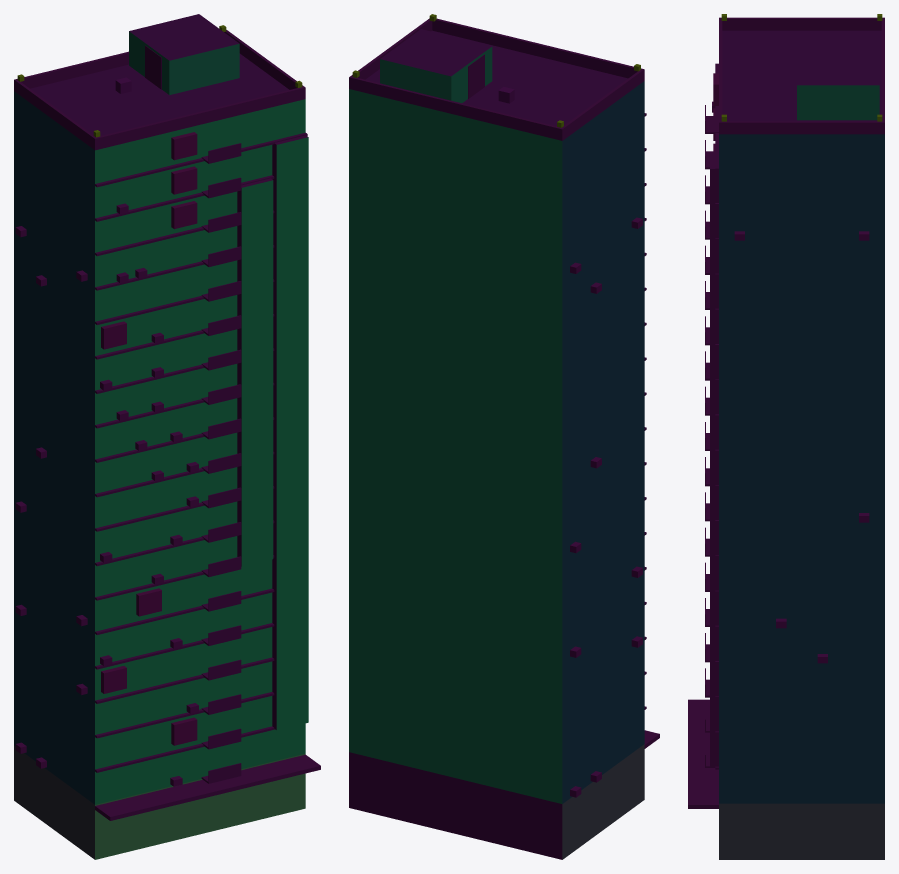
File: slab_i.glb
3 views of the same model, side by side, from view 1: azimuth 30°, elevation 25°; view 2: azimuth 150°, elevation 25°; view 3: azimuth 270°, elevation 25° (orthographic). The views are drawn at different scales.
Visible parts, largest first — view 1: slab_i; view 2: slab_i; view 3: slab_i.
Part boxes in pixels (x1,y1,x2,y2): slab_i: (14,14,320,859); slab_i: (349,14,659,859); slab_i: (688,14,884,859).
Bounding box in the file's own units: 20.3 × 64.8 × 15.2.
